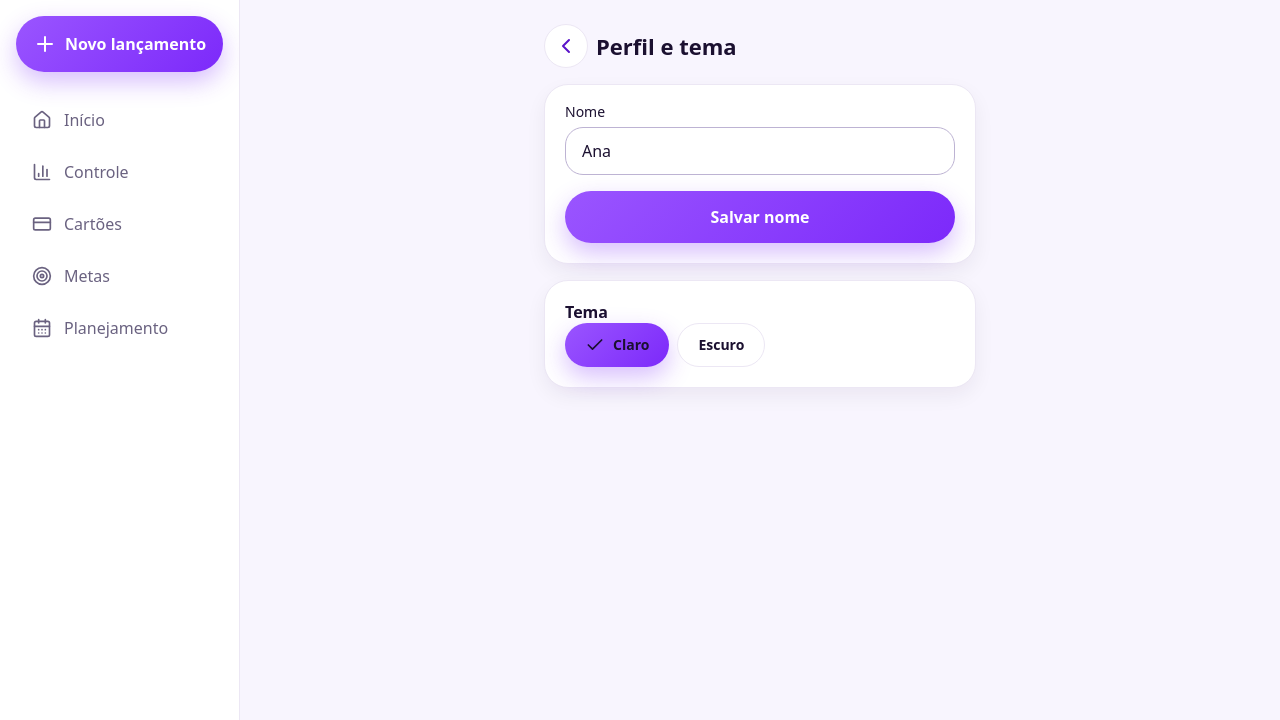
Test: Perfil › tema recusado pelo servidor volta ao anterior e mostra alerta
Expected: the button "Claro" is shown, [565,323,669,367]
What coordinates should you click on to do the following:
click the button "Escuro"
I would click on:
 (721, 345)
Its box is [677,323,765,367].
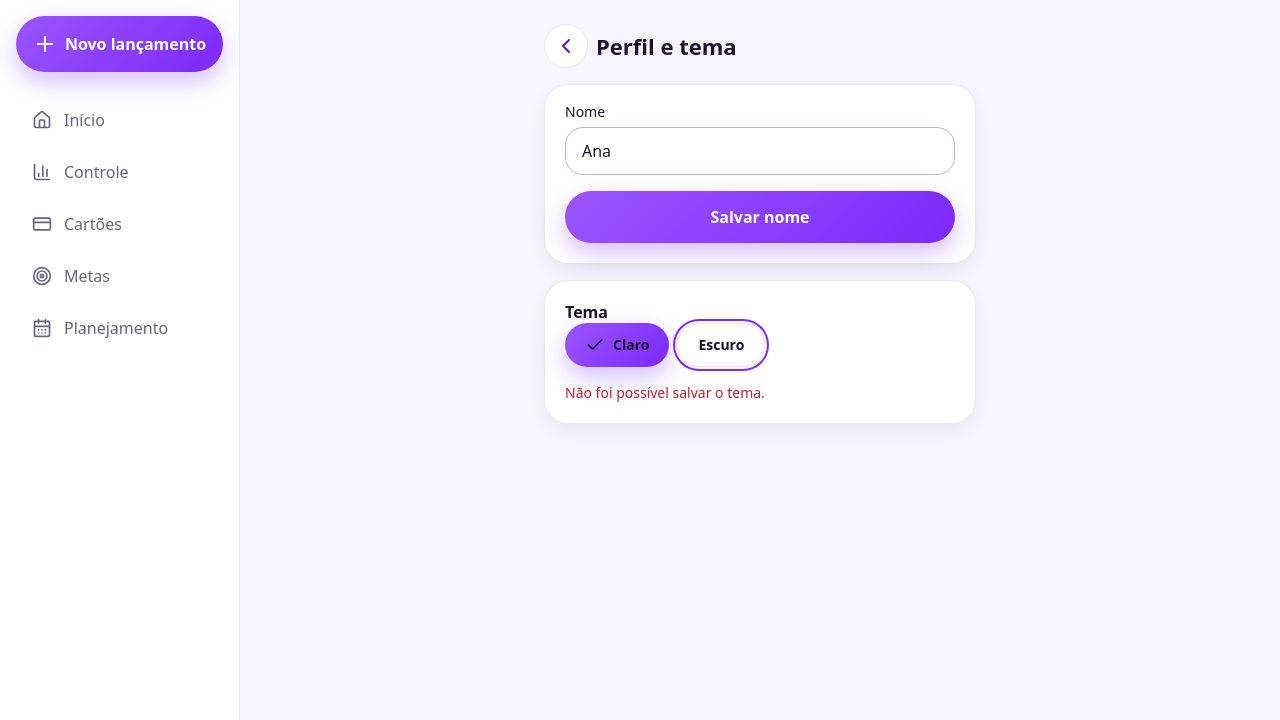
Expected: the message reads "Não foi possível salvar o tema.", [565,383,765,402]
